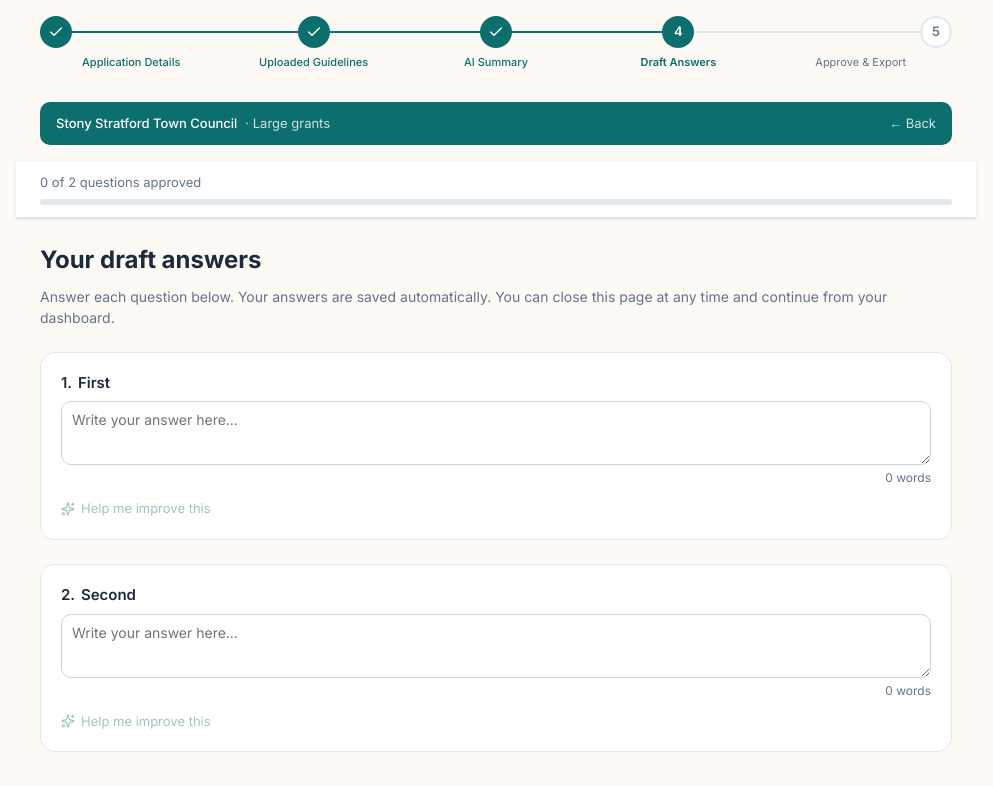
Test: Step 4 save confirmation (GAP-44, AC-FR-18-05) › confirms each answer independently, not globally
Type "An answer." into the text box named "Answer for question 1" at [496, 433], box [61,401,931,465]
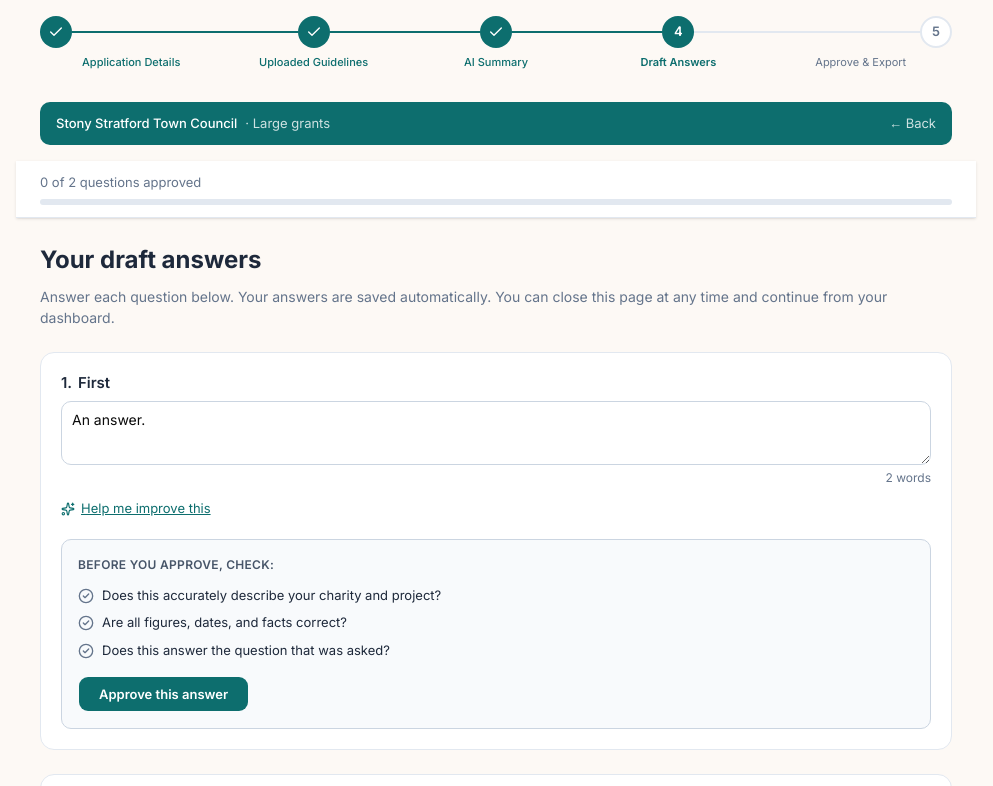
Leave the text box named "Answer for question 1", box [61,401,931,465]
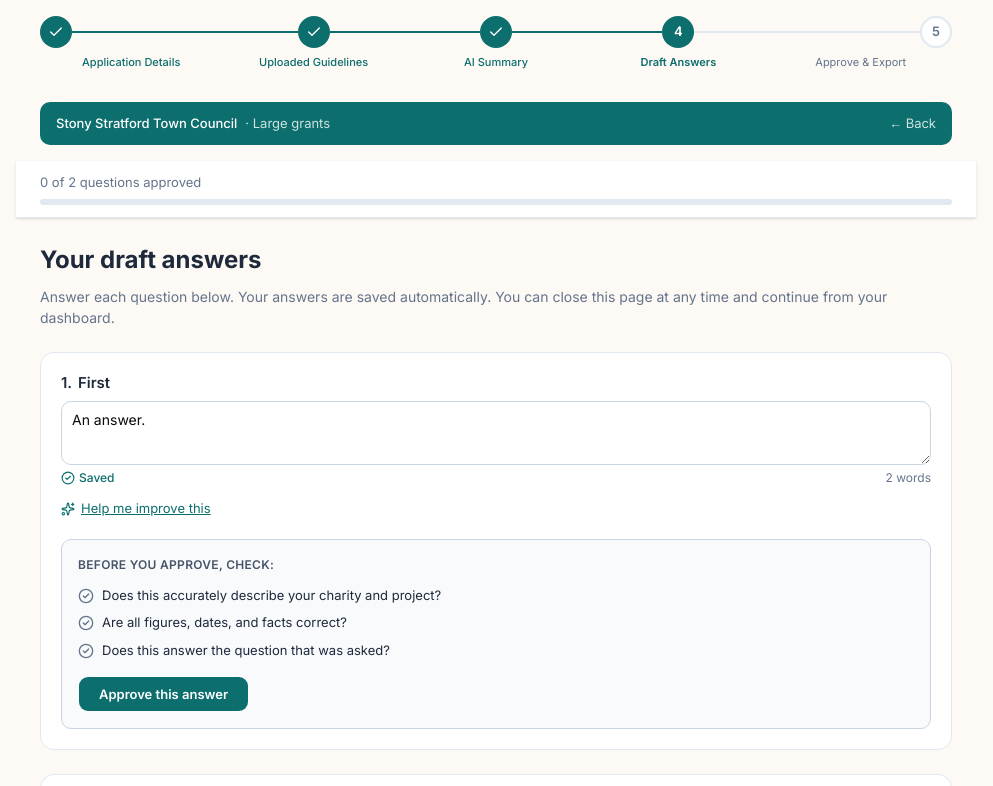
Expected: the text "Saved" is shown once, [61,469,114,487]
